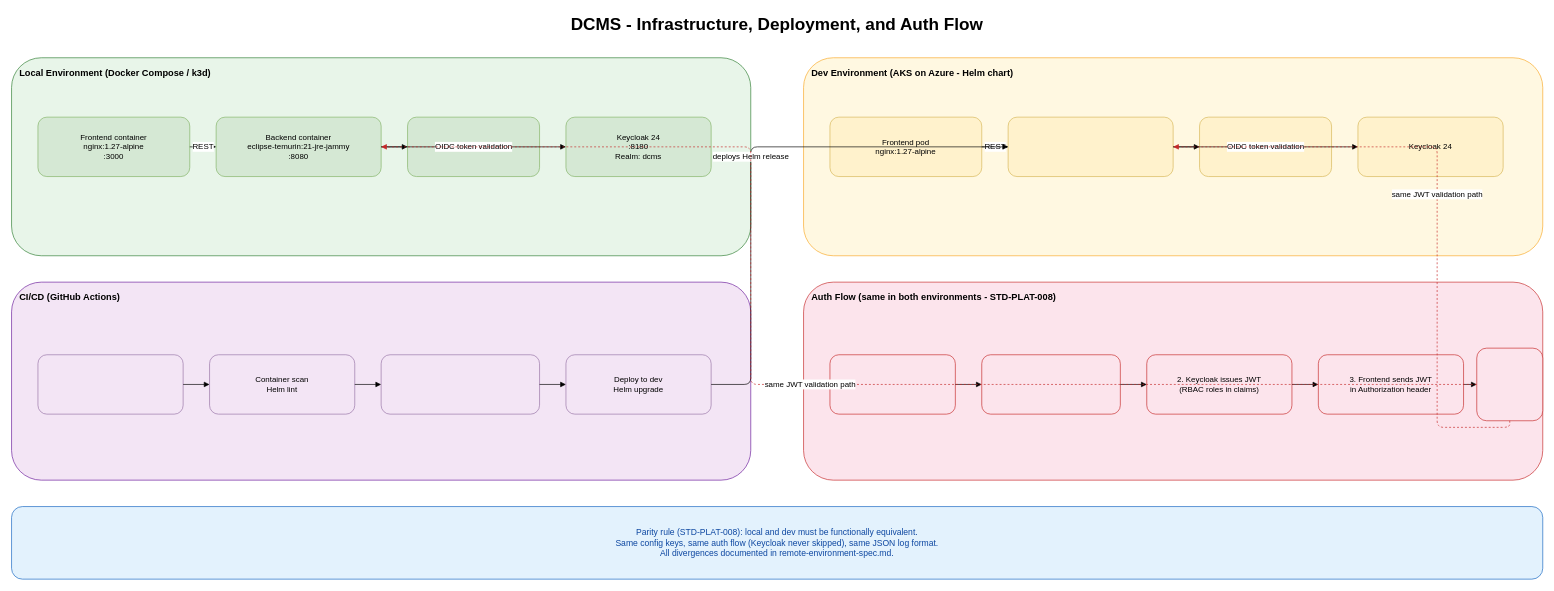
This 1554x591 diagram has some shape labels left out. The shapes that lost their labels are listed below. From the top down, each one's centre as x and y in pixels, then its label:
point (473, 146): PostgreSQL 16 :5432
point (1090, 146): Backend pod eclipse-temurin:21-jre-jammy
point (110, 384): Build and test (Maven + npm)
point (460, 384): Push image dcms_v0/dcms_v0-{service}:{sha}
point (892, 384): Browser / DWP Agent
point (1050, 384): 1. Login redirect to Keycloak
point (1509, 384): 4. Spring Security OAuth2 Resource Server validates JWT and enforces RBAC
